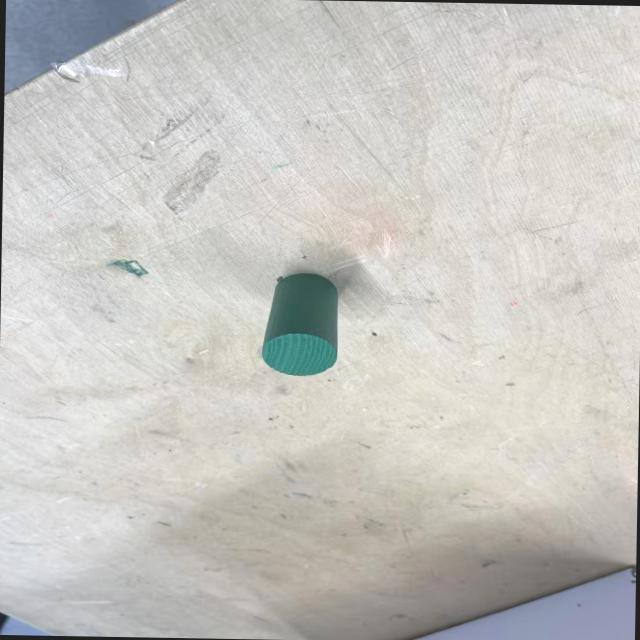green_cylinder: (260, 270, 340, 377)
